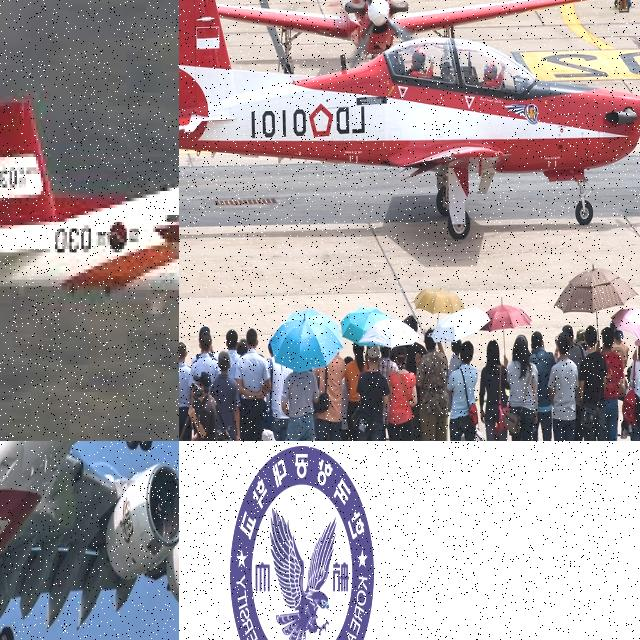A380: (0, 441, 179, 640)
KAU_Marker: (229, 447, 373, 640)
KT-1: (179, 0, 640, 239), (0, 96, 179, 320), (179, 0, 614, 51)
